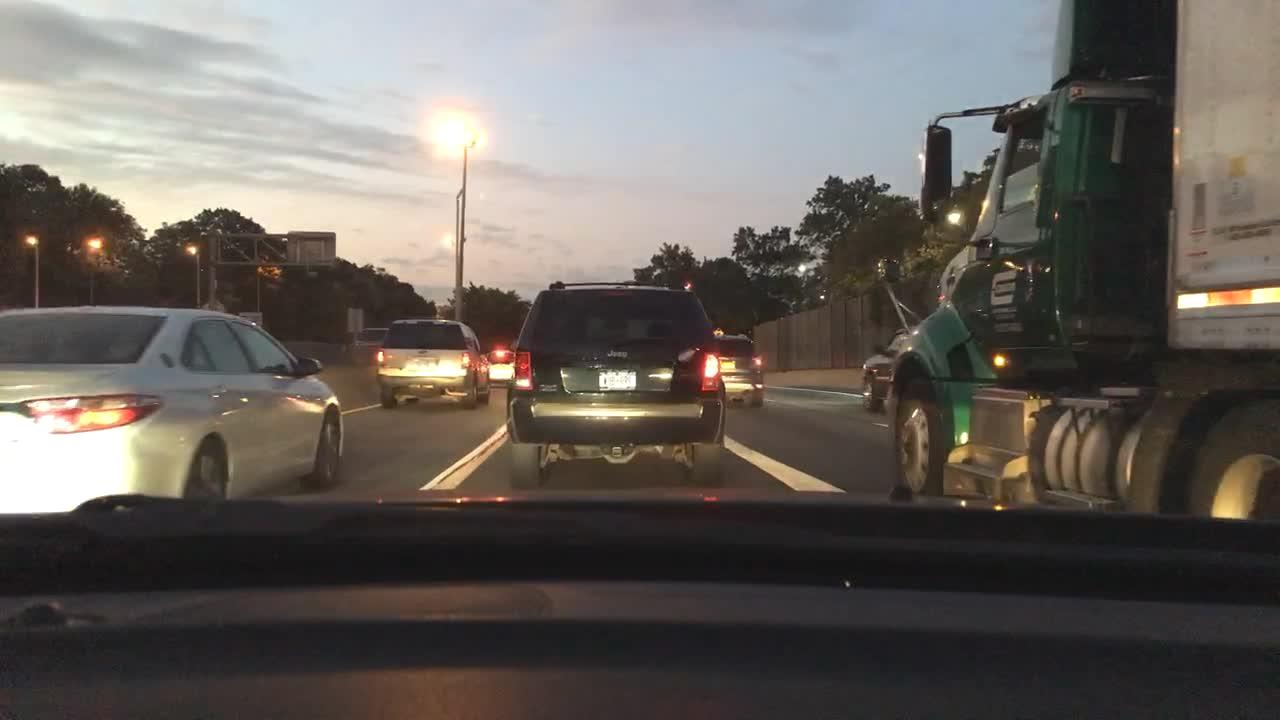jeep: (599, 344, 639, 363)
